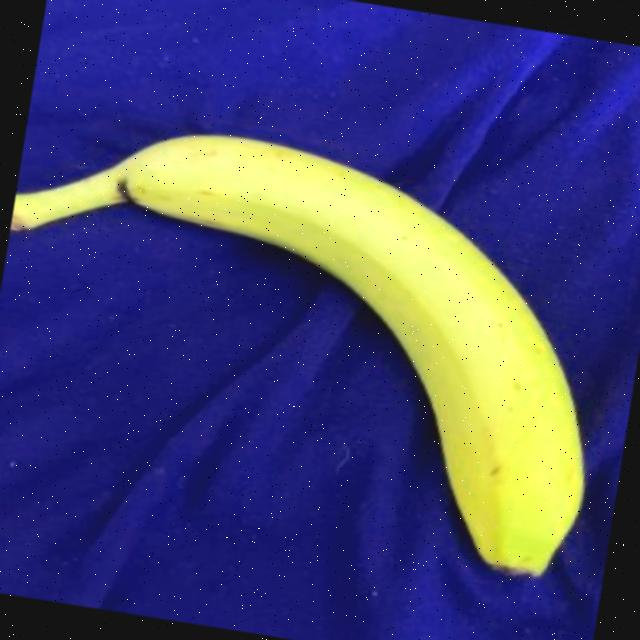Ripe: (0, 69, 640, 612)
